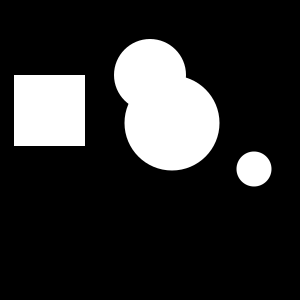circle: (14, 75, 85, 146)
rectangle: (125, 76, 220, 170), (114, 39, 186, 111), (236, 152, 272, 186)
